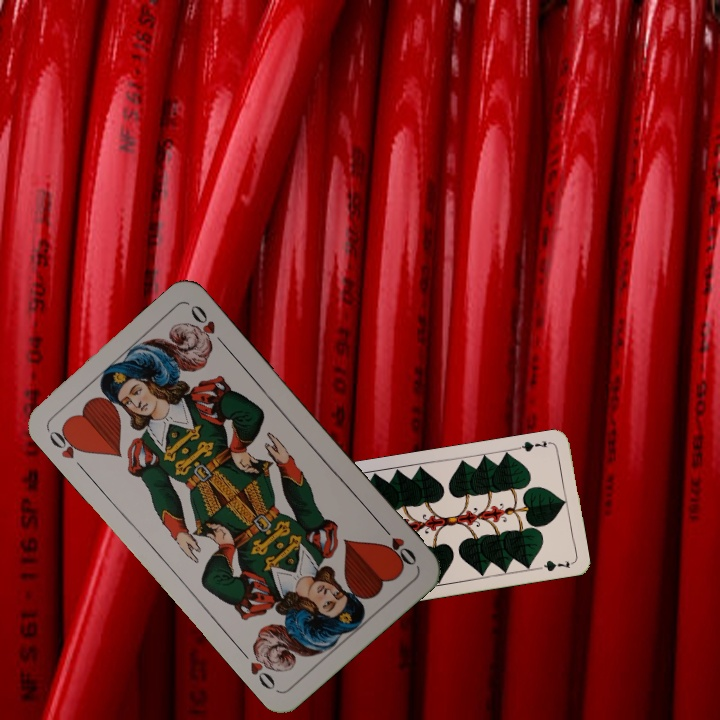G7: (514, 437, 555, 454)
HO: (44, 422, 88, 474), (376, 520, 420, 569)
